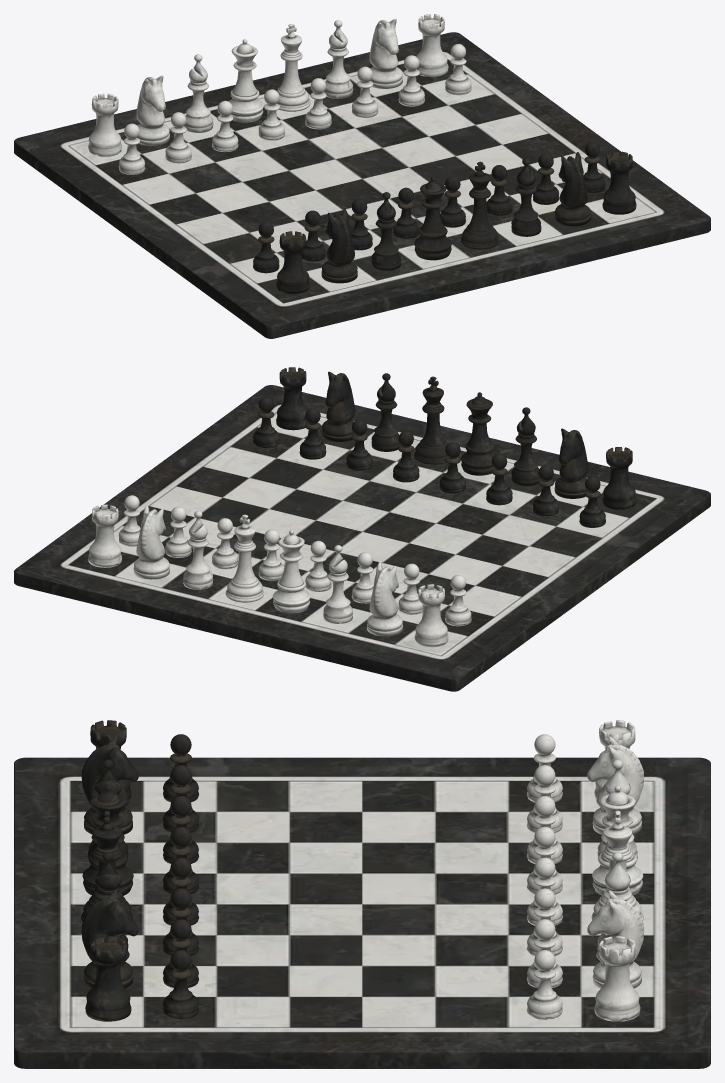
File: chess_set.glb
The picture shows the model from 3 angles, top to bottom: view 1: azimuth 30°, elevation 25°; view 2: azimuth 150°, elevation 25°; view 3: azimuth 270°, elevation 25°; orthographic projection. The views are drawn at different scales.
Parts seen in each view (by area): view 1: board, piece_rook_black_01, piece_rook_white_01, piece_king_black, piece_king_white; view 2: board, piece_rook_white_01, piece_rook_black_01, piece_king_white, piece_king_black; view 3: board, piece_rook_white_01, piece_rook_black_01, piece_king_black, piece_king_white.
Boxes of the visible parts, x1=… form: board: x1=14, y1=32, x2=710, y2=338; piece_rook_black_01: x1=253, y1=142, x2=636, y2=294; piece_rook_white_01: x1=88, y1=14, x2=471, y2=174; piece_king_black: x1=461, y1=161, x2=499, y2=249; piece_king_white: x1=277, y1=24, x2=310, y2=111; board: x1=14, y1=385, x2=710, y2=691; piece_rook_white_01: x1=88, y1=495, x2=471, y2=647; piece_rook_black_01: x1=253, y1=367, x2=636, y2=527; piece_king_white: x1=225, y1=514, x2=264, y2=602; piece_king_black: x1=414, y1=376, x2=447, y2=464; board: x1=14, y1=757, x2=710, y2=1068; piece_rook_white_01: x1=526, y1=720, x2=644, y2=1021; piece_rook_black_01: x1=81, y1=720, x2=199, y2=1021; piece_king_black: x1=81, y1=810, x2=133, y2=921; piece_king_white: x1=591, y1=810, x2=643, y2=920.
Size of the model in its own units: 0.5532 by 0.1124 by 0.5532.
3 materials, 3 textured.
